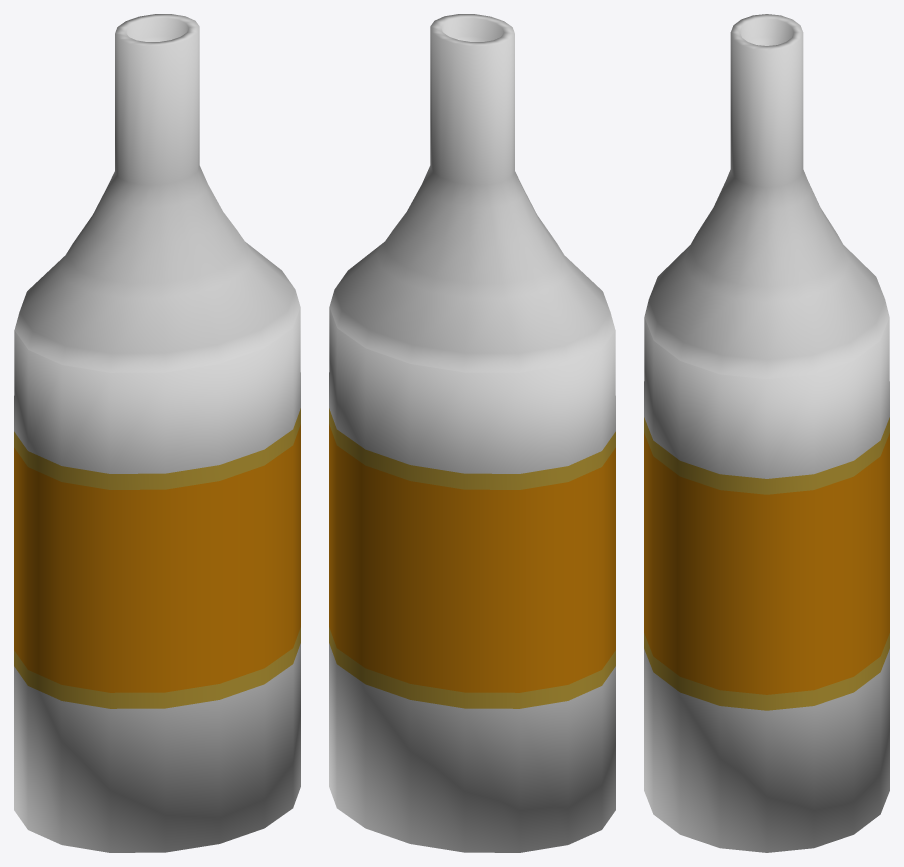
Rendered from Tequila.fbx.
3 renders of one model, left to right at view 1: azimuth 30°, elevation 25°; view 2: azimuth 150°, elevation 25°; view 3: azimuth 270°, elevation 25°, orthographic.
Visible parts, largest first — view 1: Cylinder; view 2: Cylinder; view 3: Cylinder.
Part boxes in pixels (bbox=[...]): Cylinder: bbox=[14, 14, 300, 852]; Cylinder: bbox=[329, 14, 615, 852]; Cylinder: bbox=[644, 14, 889, 852].
Bounding box in the file's own units: 96.41 × 273 × 80.35.
